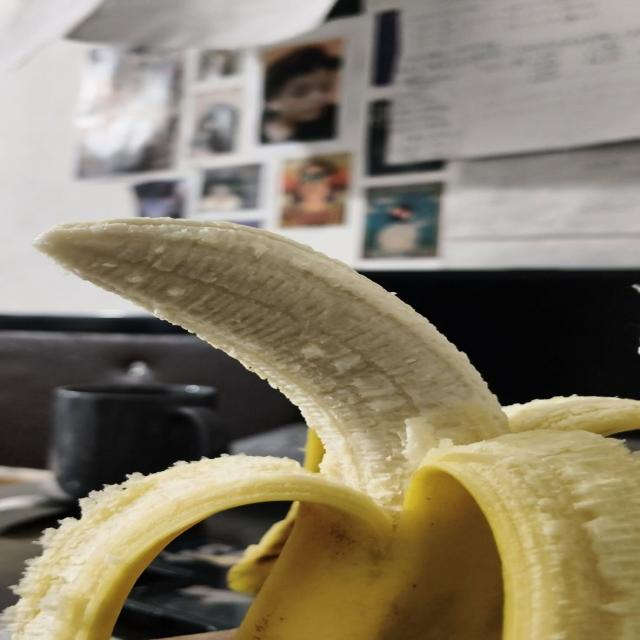banana: (11, 220, 639, 639), (504, 396, 639, 435)
